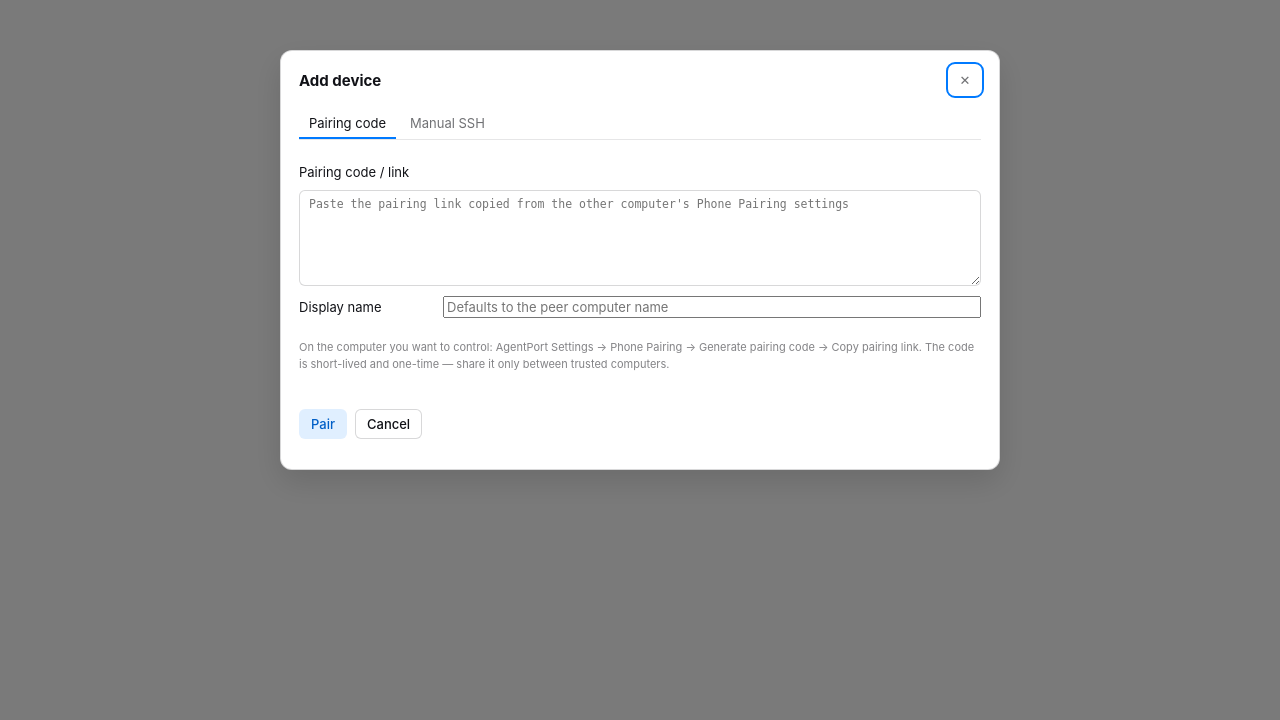
Scenario: manual SSH tab › validates required fields before invoking
Click the tab "Manual SSH": (447, 124) [400,109,495,139]
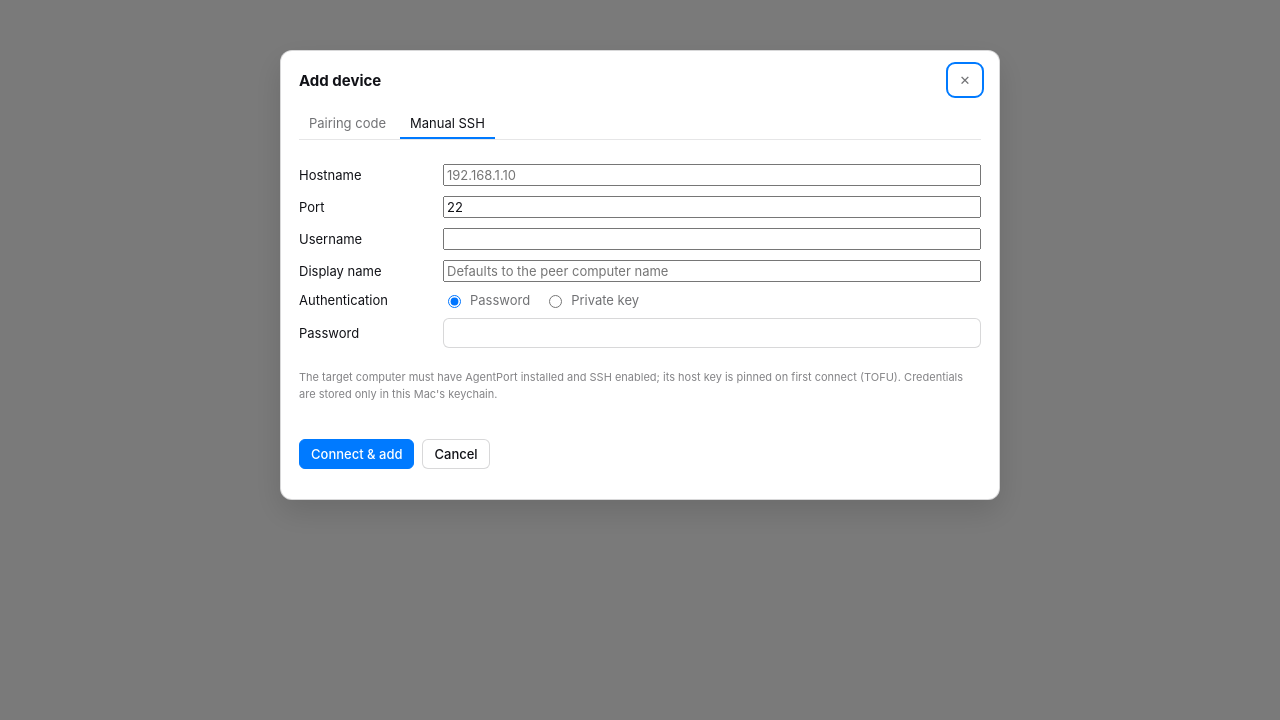
Click the button "Connect & add": (357, 454) [299,439,414,469]
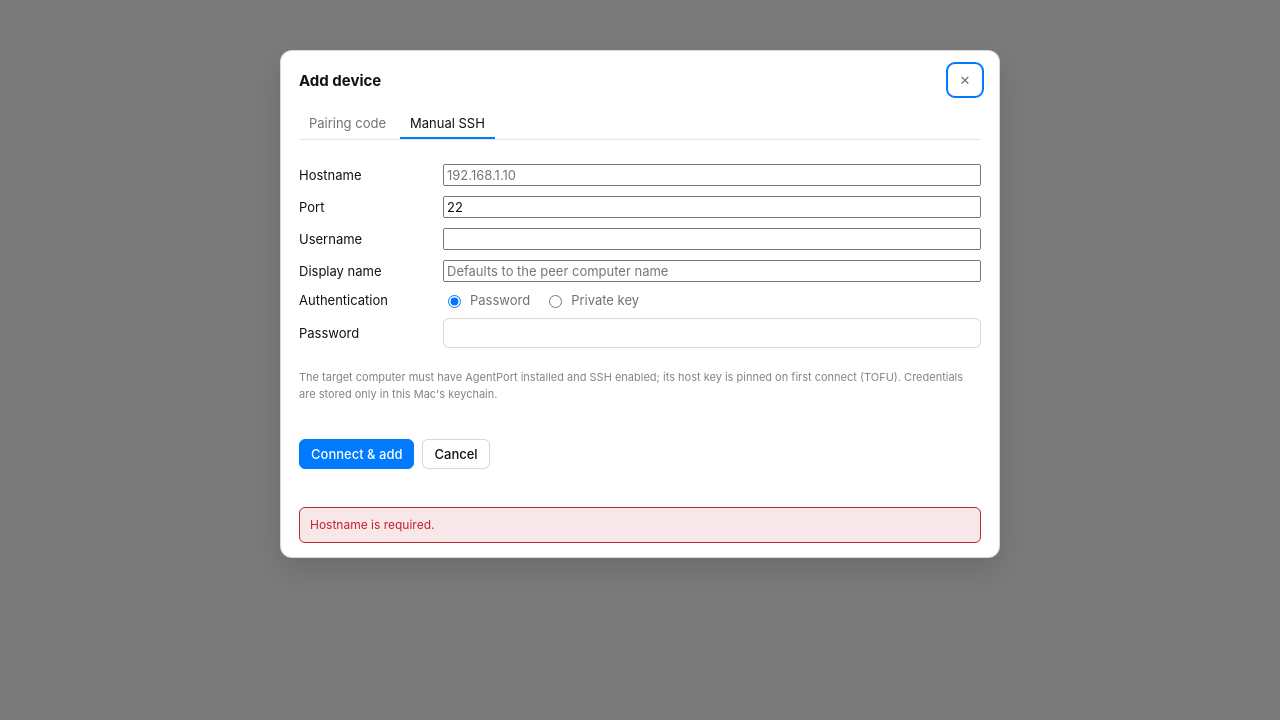
expect the text "Hostname is required." is shown: met, box [299,507,981,543]
In the field labelled "Hostname": (712, 175) [443,164,981,186], type "box"
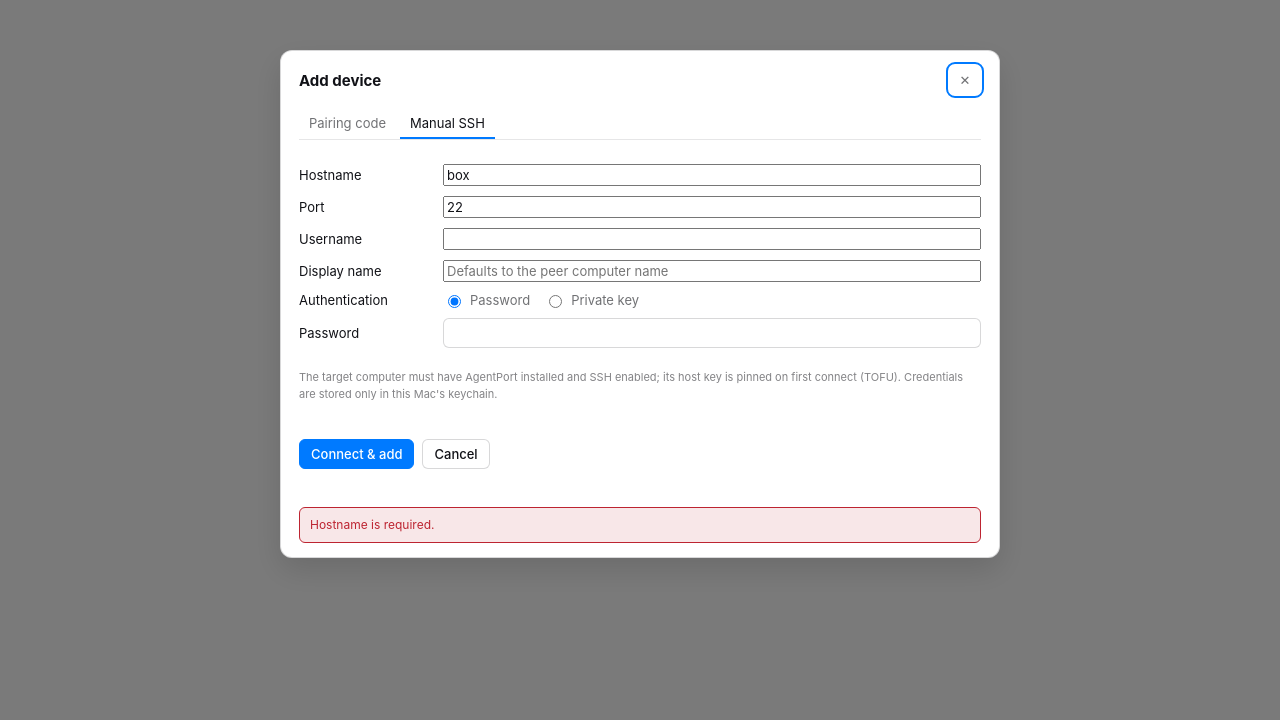
In the field labelled "Username": (712, 239) [443,228,981,250], type "dev"
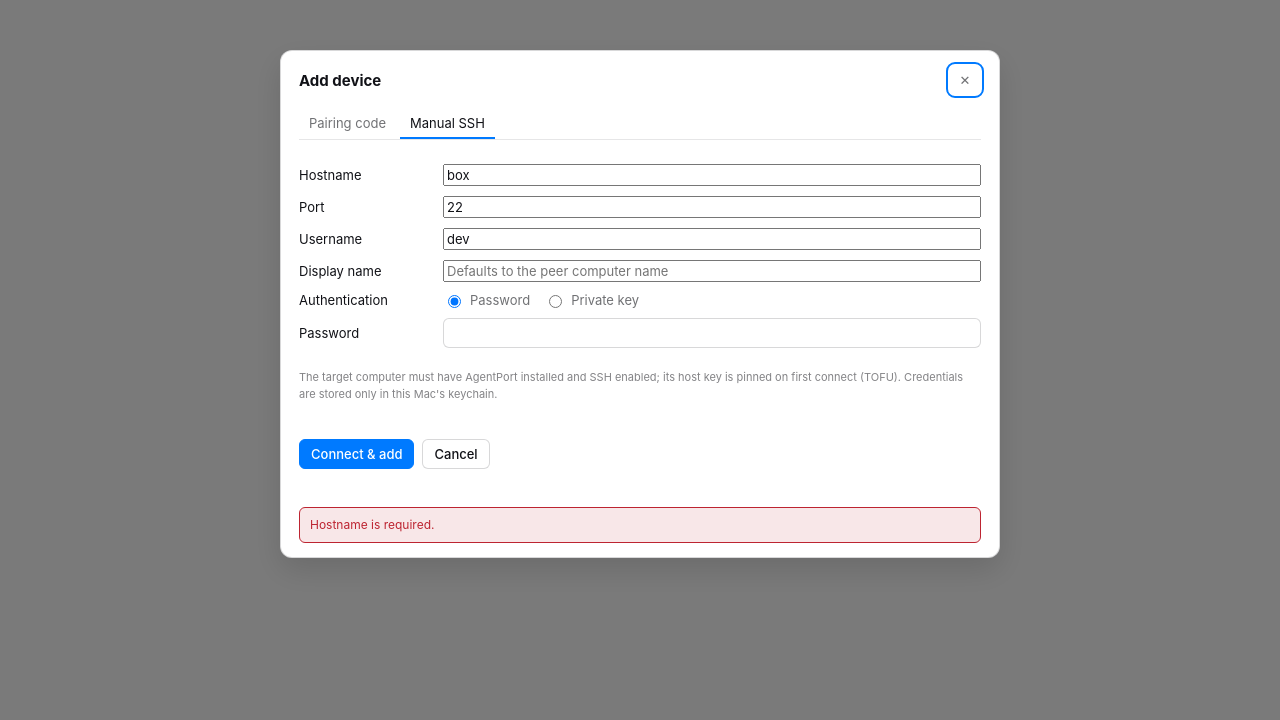
Replace the text in the field labelled "Port" with "70000": (712, 207) [443,196,981,218]
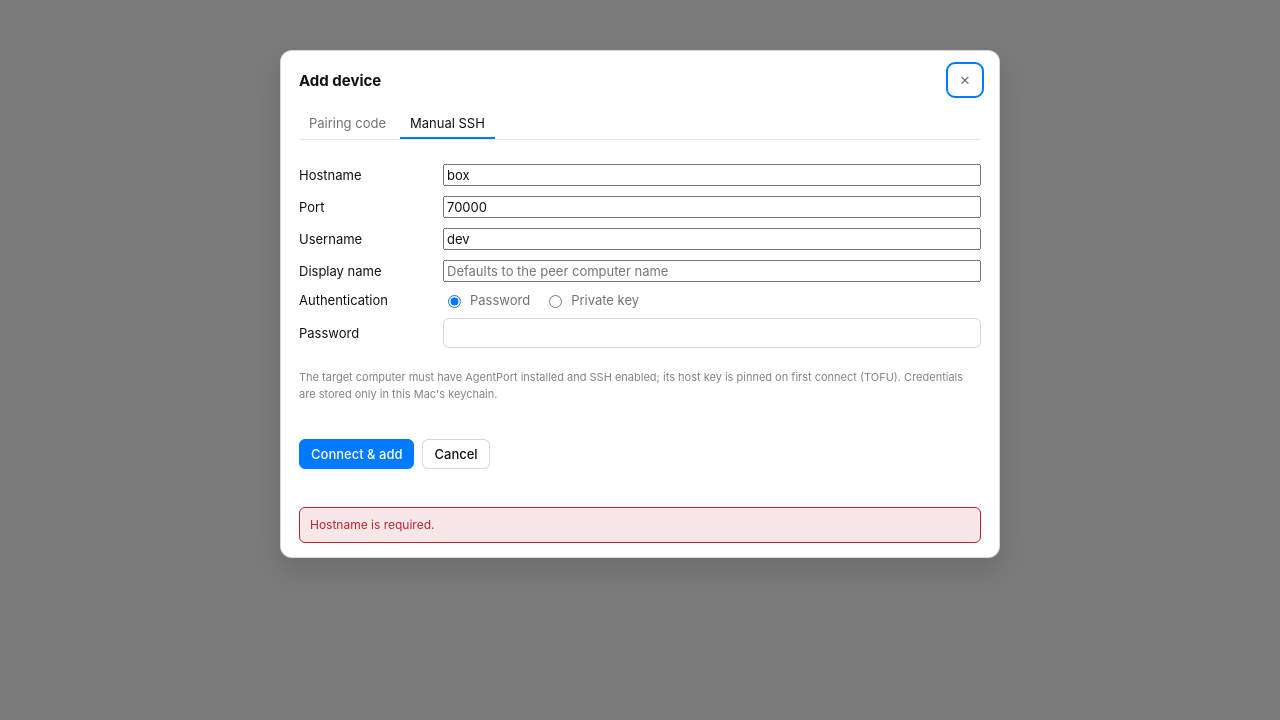
Click the button "Connect & add": (357, 454) [299,439,414,469]
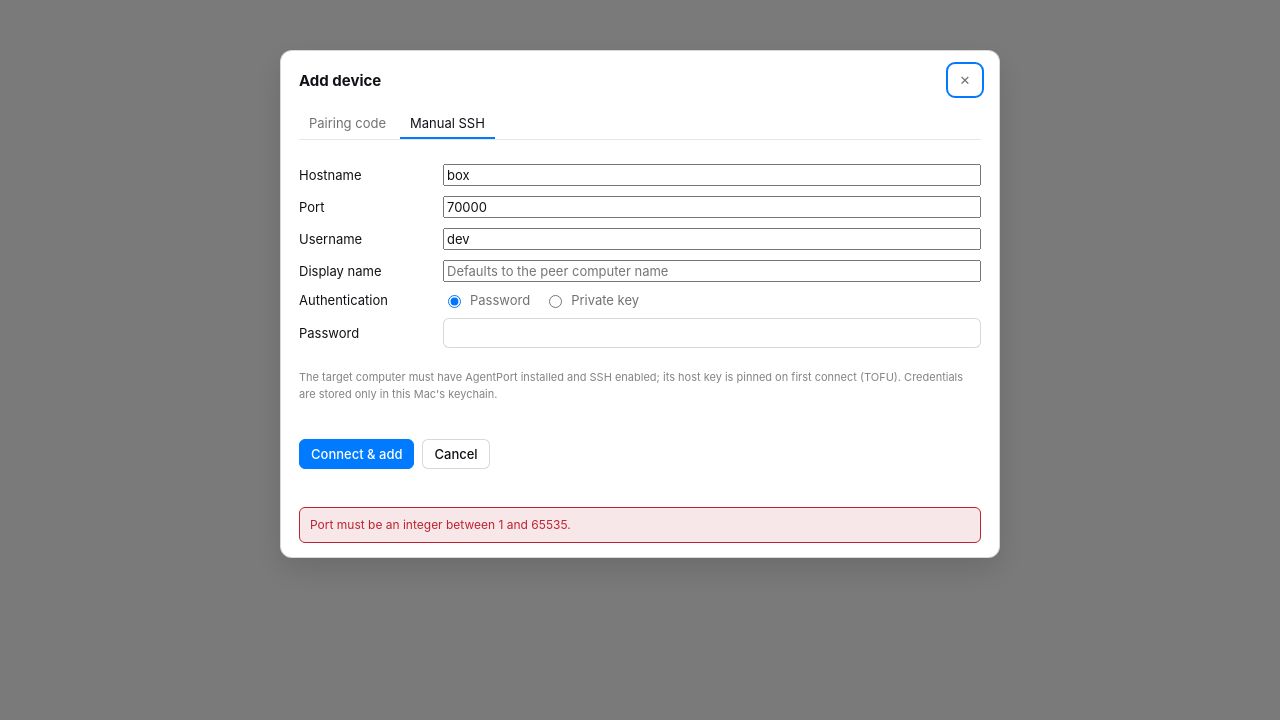
expect the text "Port must be an integer between 1 and 65535." is shown: met, box [299,507,981,543]
